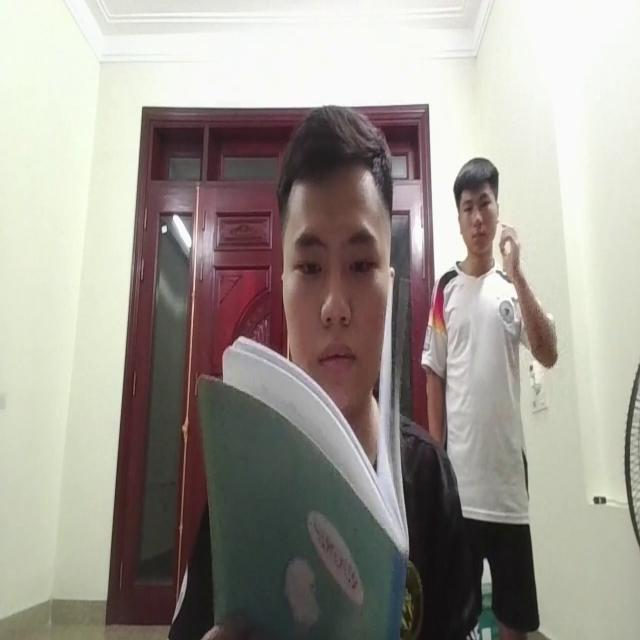book: (186, 306, 410, 640)
extra_person: (426, 145, 548, 615)
student: (278, 96, 398, 408)
